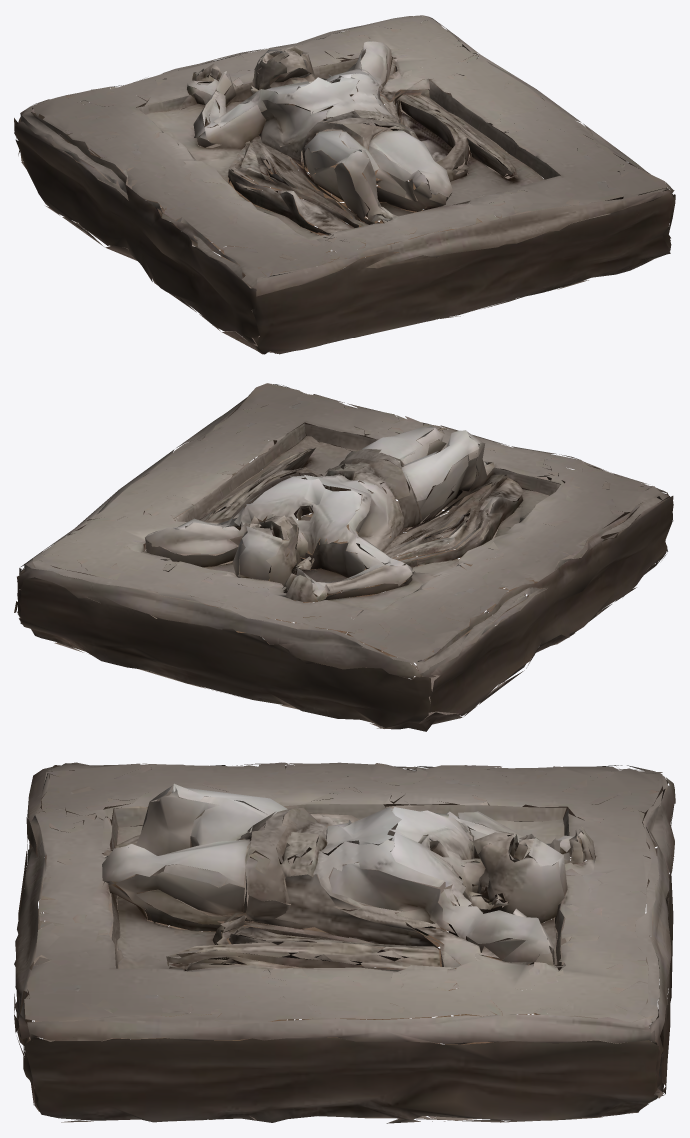
File: dre_sarcophagus_lid.glb
The picture shows the model from 3 angles, top to bottom: view 1: azimuth 30°, elevation 25°; view 2: azimuth 150°, elevation 25°; view 3: azimuth 270°, elevation 25°; orthographic projection. The views are drawn at different scales.
Visible parts, largest first — view 1: MetricPlacement; view 2: MetricPlacement; view 3: MetricPlacement.
Part boxes in pixels (left/top/right/bottom): MetricPlacement: left=14, top=15, right=675, bottom=354; MetricPlacement: left=14, top=383, right=673, bottom=731; MetricPlacement: left=14, top=762, right=675, bottom=1123.
Size of the model in its own units: 0.77 by 0.25 by 0.7985.
Materials: 1 (1 with a texture image).
